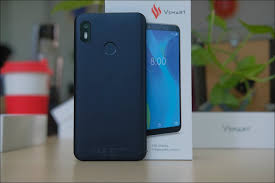vsmart: (71, 10, 150, 164)
